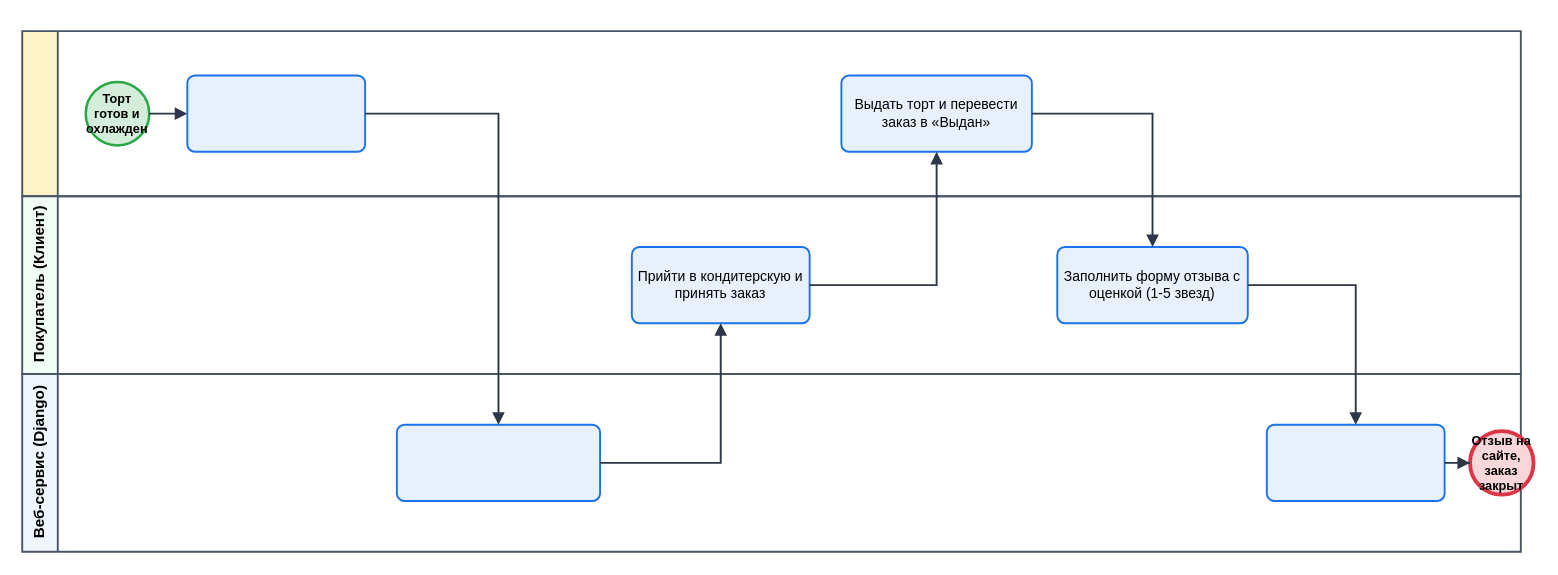
Some shapes in this 1558 by 575 pixel diagram are drawn without their labels. The box of each missing label's shape, as (x1, y1, x2, y2) in pixels:
Кондитер / Зона выдачи: (21, 30, 1521, 197)
Опубликовать Review и обновить рейтинг: (1265, 423, 1445, 501)
Отправить email-уведомление о готовности торта: (395, 423, 600, 501)
Сменить статус на «Готов к выдаче»: (186, 74, 366, 152)
